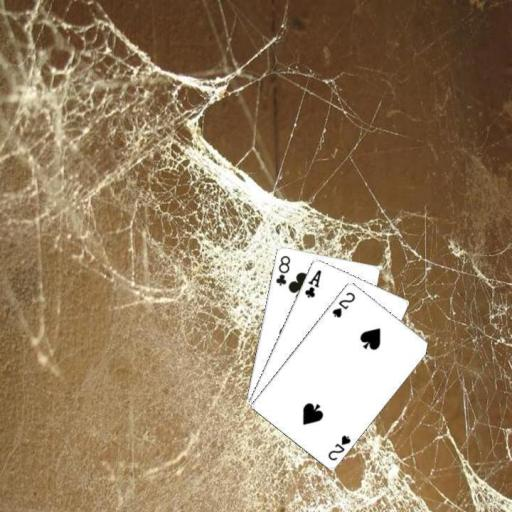card-corner: (325, 432, 352, 462), (330, 289, 356, 319), (301, 266, 323, 298), (272, 252, 292, 286)
